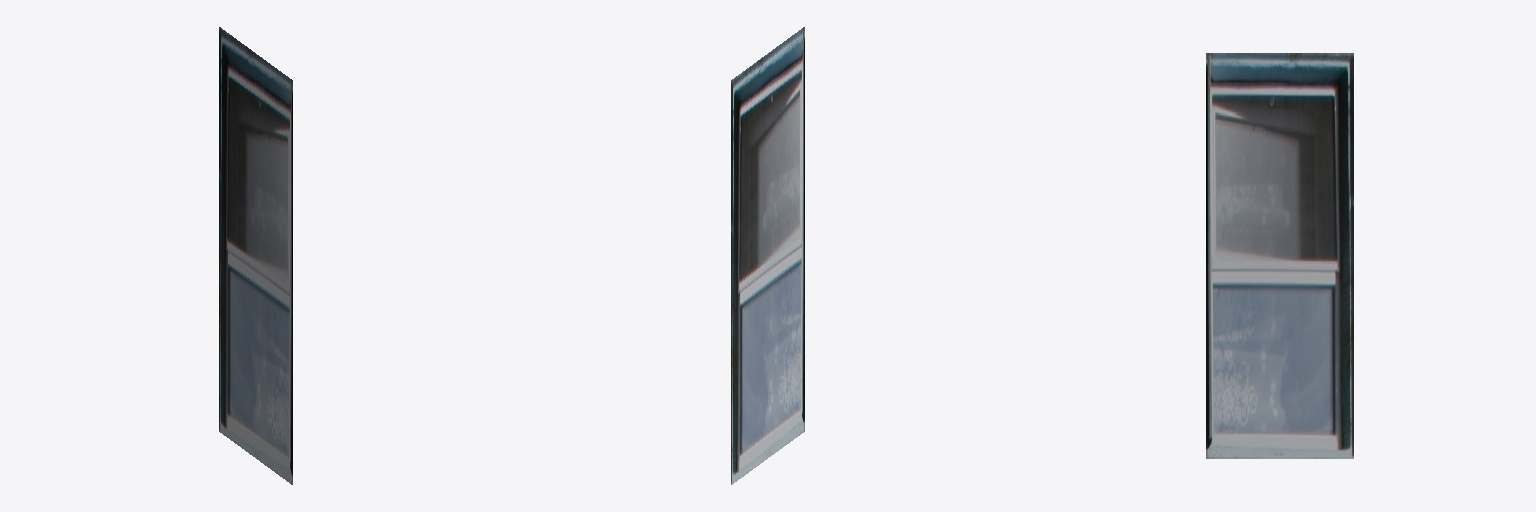
The picture shows the model from 3 angles: view 1: azimuth 30°, elevation 25°; view 2: azimuth 150°, elevation 25°; view 3: azimuth 270°, elevation 25°; orthographic projection.
Parts seen in each view (by area): view 1: Plane001; view 2: Plane001; view 3: Plane001.
Boxes of the visible parts, x1=… form: Plane001: x1=219, y1=27, x2=292, y2=484; Plane001: x1=731, y1=27, x2=804, y2=484; Plane001: x1=1206, y1=53, x2=1353, y2=458.
Bounding box in the file's own units: 0 × 602 × 200.
Materials: 1 (1 with a texture image).